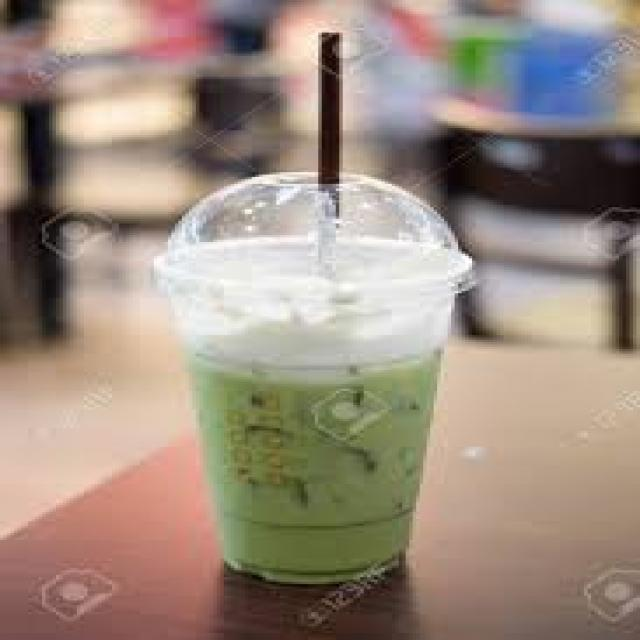bottle: (162, 237, 458, 583)
